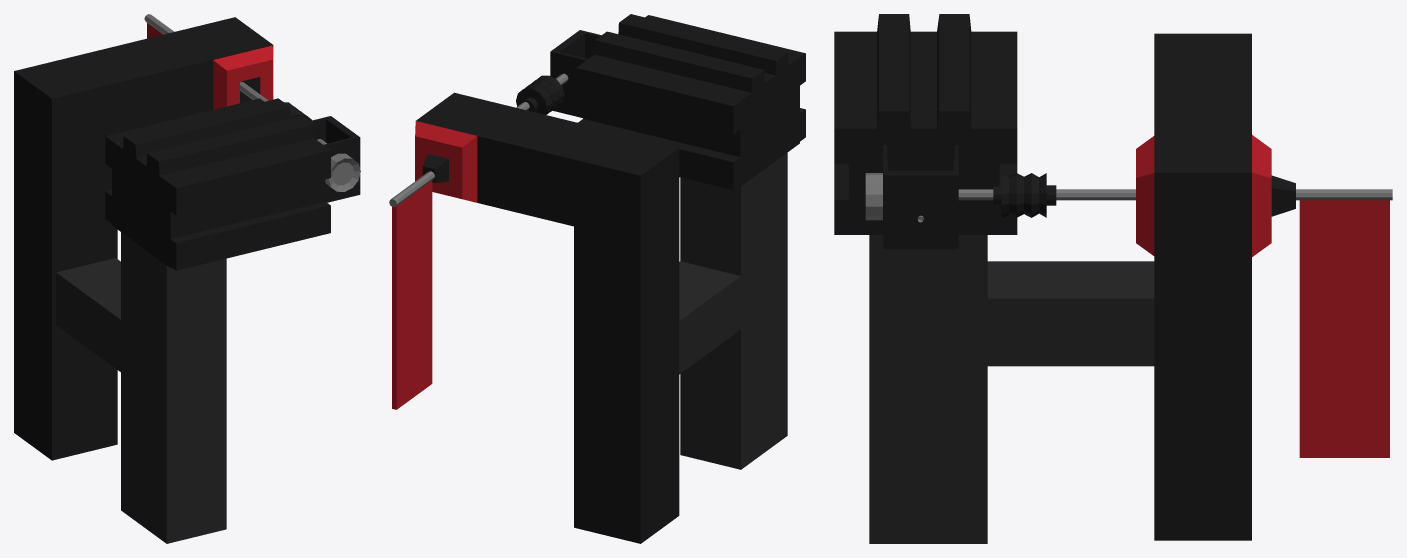
Rendered from robot_body.fbx.
The picture shows the model from 3 angles, left to right: view 1: azimuth 30°, elevation 25°; view 2: azimuth 150°, elevation 25°; view 3: azimuth 270°, elevation 25°; orthographic projection. The views are drawn at different scales.
Visible parts, largest first — view 1: stand2, stand, Motor, red_dec, dec1, pseudo_hinge; view 2: stand2, stand, Motor, push, red_dec2, dec2, pseudo_hinge; view 3: stand, stand2, Motor, push, pseudo_hinge, dec2, red_dec2, red_dec, dec1.
Part boxes in pixels (x1,y1,x2,y2): stand2: [14, 17, 273, 460]; stand: [56, 232, 226, 543]; Motor: [105, 98, 360, 270]; red_dec: [213, 45, 273, 109]; dec1: [325, 153, 360, 191]; pseudo_hinge: [144, 14, 326, 144]; stand2: [416, 92, 679, 543]; stand: [679, 152, 787, 469]; Motor: [550, 14, 805, 190]; push: [392, 180, 432, 409]; red_dec2: [415, 121, 477, 202]; dec2: [516, 75, 564, 114]; pseudo_hinge: [389, 73, 568, 207]; stand: [869, 235, 1154, 543]; stand2: [1154, 33, 1295, 540]; Motor: [834, 14, 1017, 249]; push: [1299, 200, 1389, 457]; pseudo_hinge: [958, 189, 1392, 200]; dec2: [993, 173, 1056, 217]; red_dec2: [1252, 135, 1271, 256]; red_dec: [1136, 136, 1154, 255]; dec1: [865, 173, 882, 220].
Size of the model in its own units: 201 by 341 by 330.
